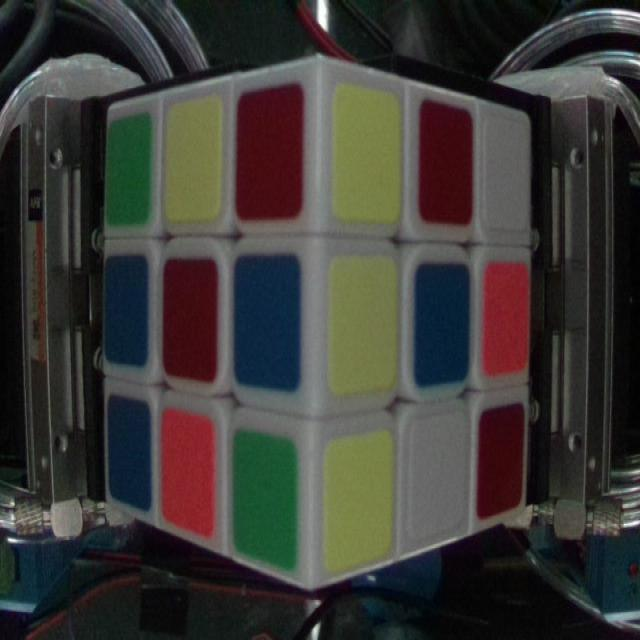b: (235, 258, 300, 385), (415, 266, 470, 382), (106, 395, 153, 508), (102, 256, 150, 365)
g: (233, 428, 300, 571), (105, 117, 150, 222)
o: (160, 408, 214, 534), (484, 262, 528, 374)
r: (237, 90, 300, 215), (416, 98, 474, 225), (162, 258, 218, 376), (473, 404, 528, 514)
w: (408, 414, 464, 526), (484, 125, 530, 227)
y: (316, 435, 394, 568), (331, 84, 404, 224), (325, 258, 398, 389), (162, 106, 225, 218)
